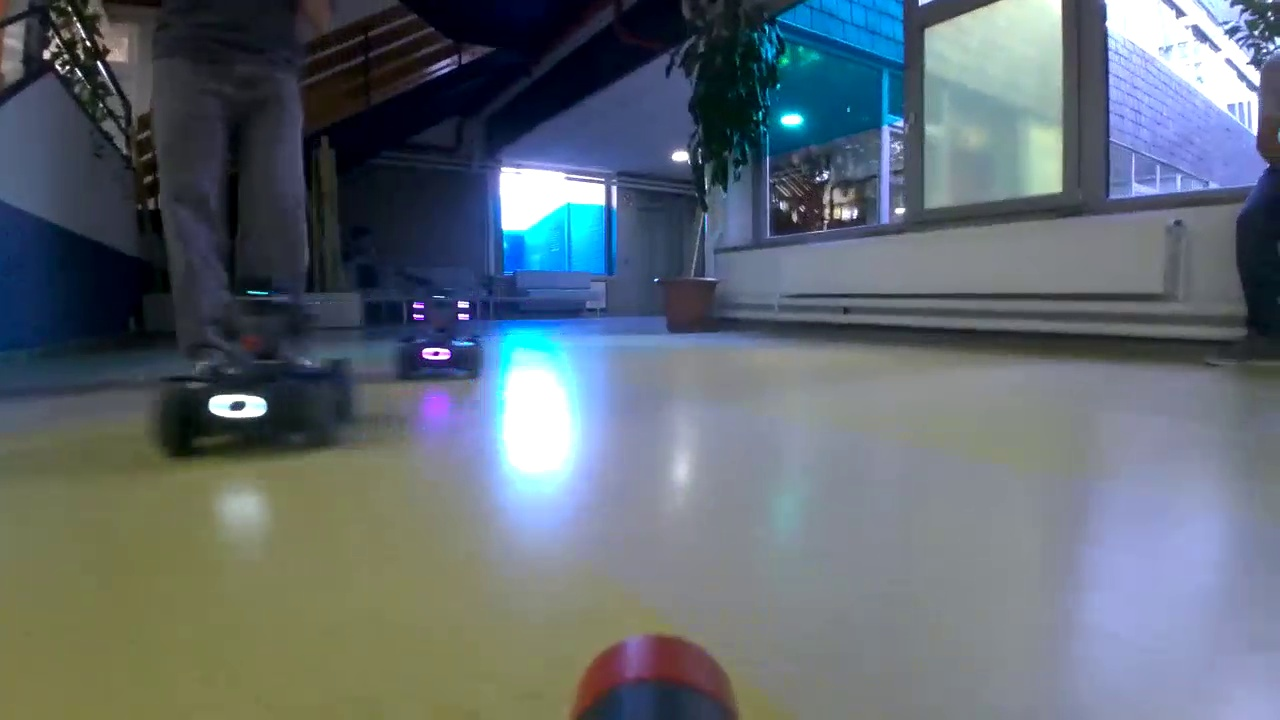robot: (155, 278, 352, 458), (398, 292, 484, 386)
